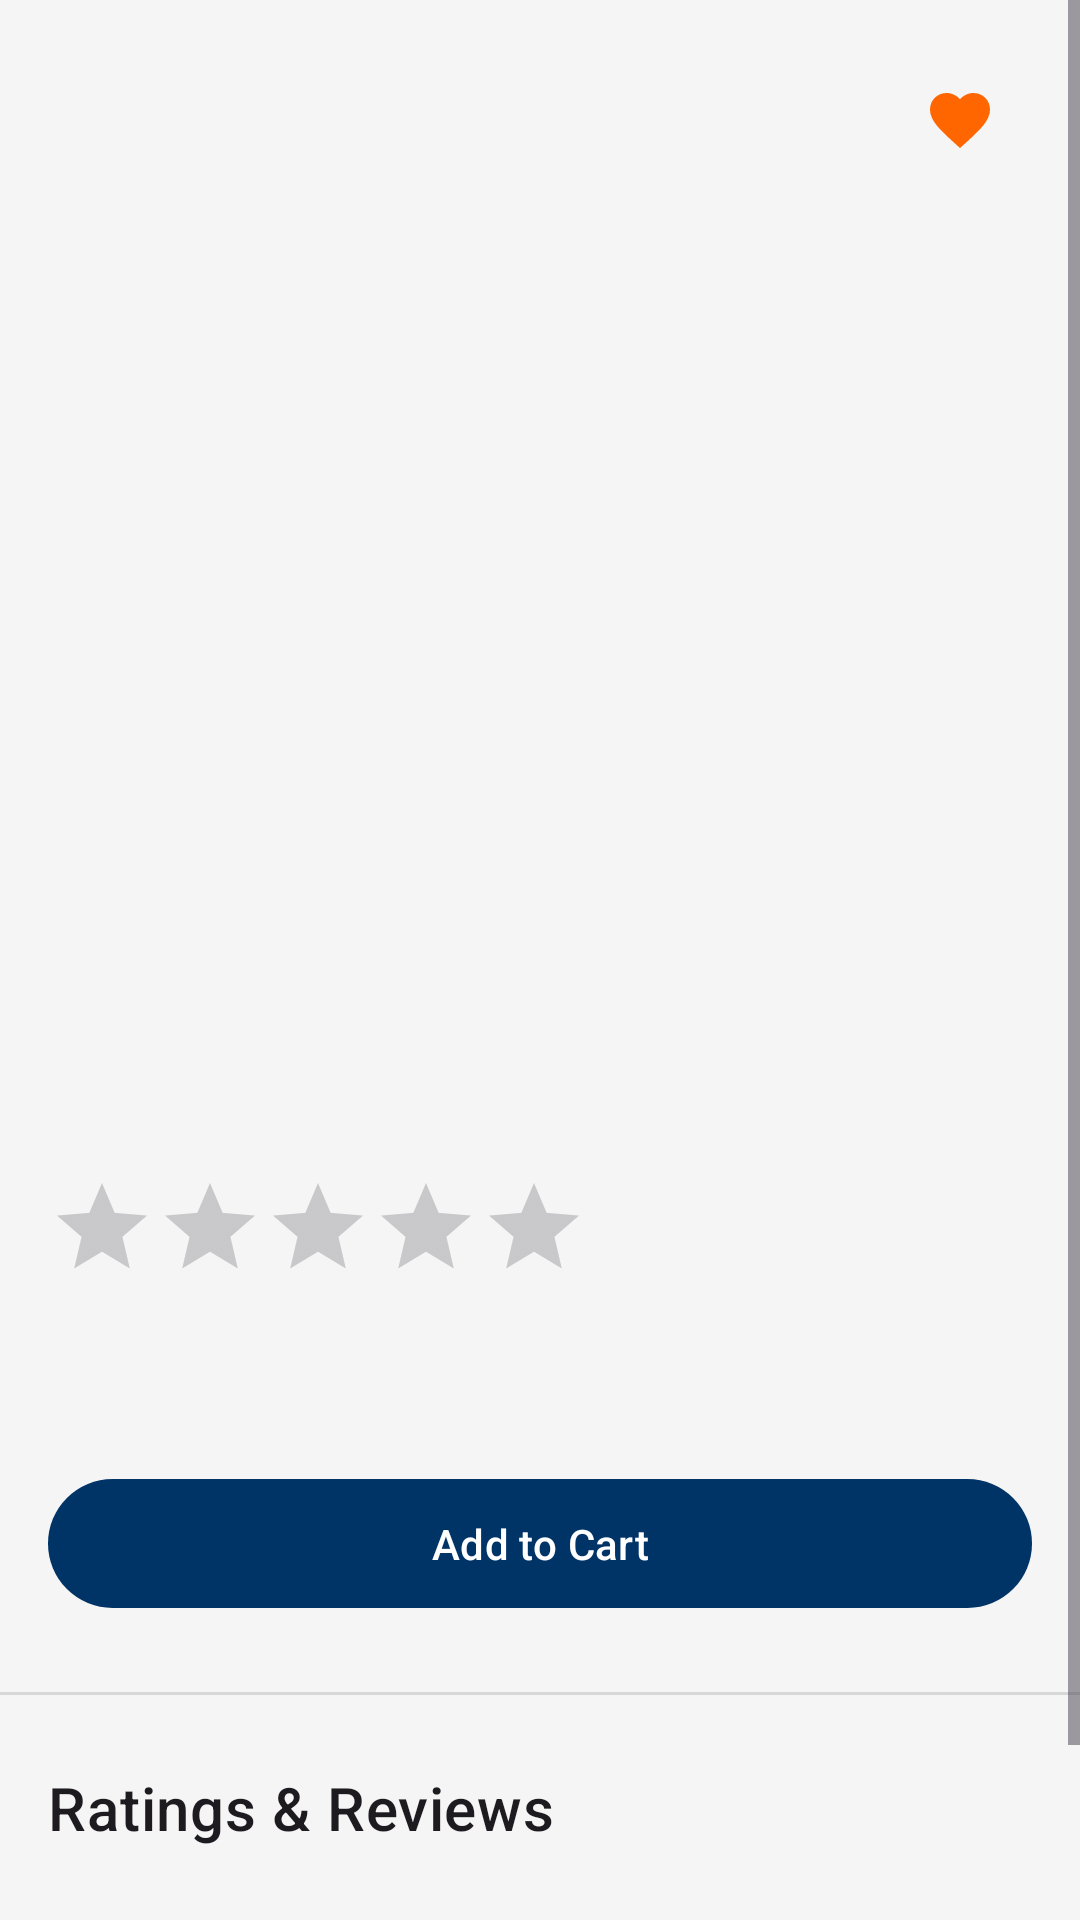

Icons on this 1080x1920 Android screen, each with its box as (x1, y1, x2, y2):
Add to Wishlist: (930, 93, 990, 148)
